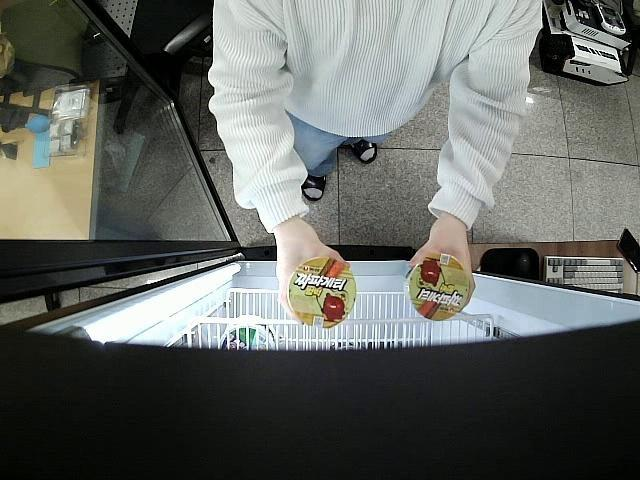04_chapagetti_S: (286, 256, 358, 327), (401, 254, 474, 320)
